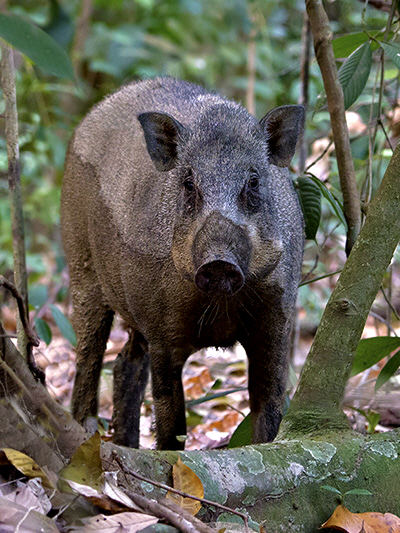boar: (57, 78, 305, 358)
